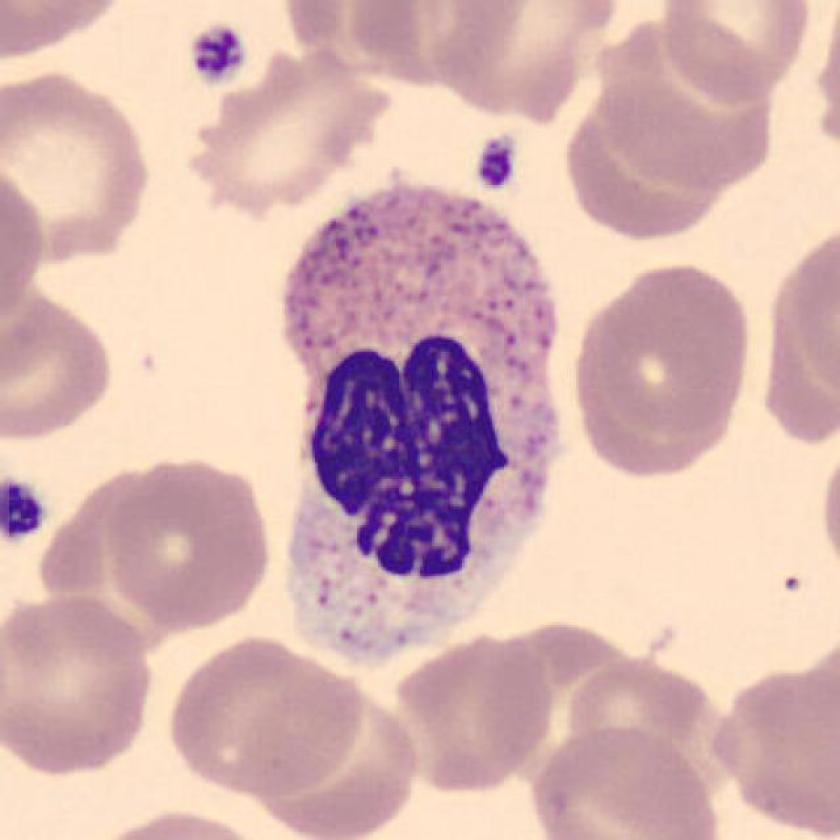neutrophil: (282, 184, 560, 667)
